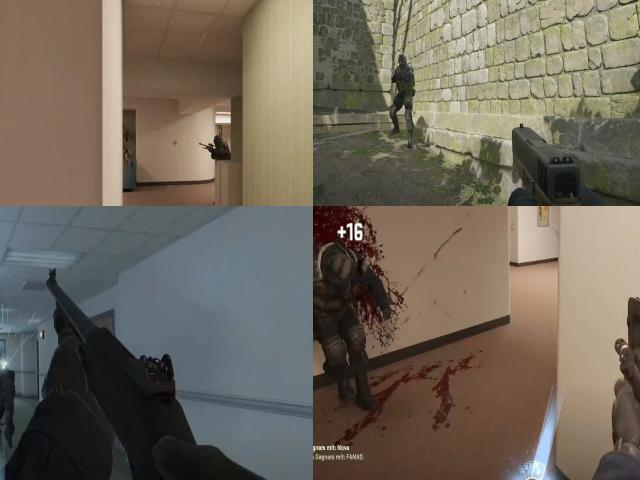CT: (387, 52, 419, 137), (0, 357, 17, 445), (210, 136, 232, 162)
CT-Head: (397, 52, 408, 71), (212, 136, 225, 149)
Dead: (313, 244, 377, 397)
